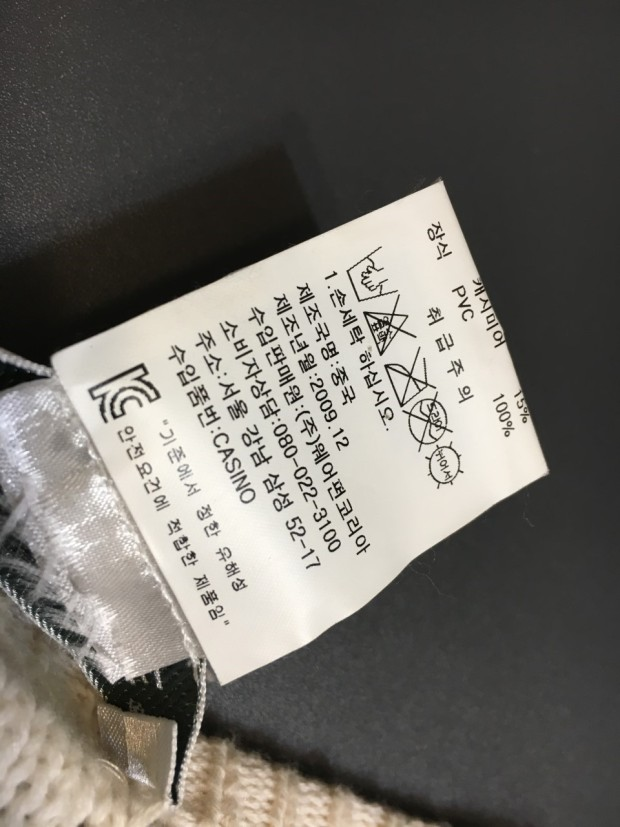ER_hand_wash: (346, 246, 398, 302)
KR_flat_dry: (425, 447, 466, 486)
KR_no_chlorine_bleach: (364, 306, 414, 352)
KR_no_dry_clean: (403, 399, 450, 445)
KR_no_iron: (385, 351, 436, 401)
